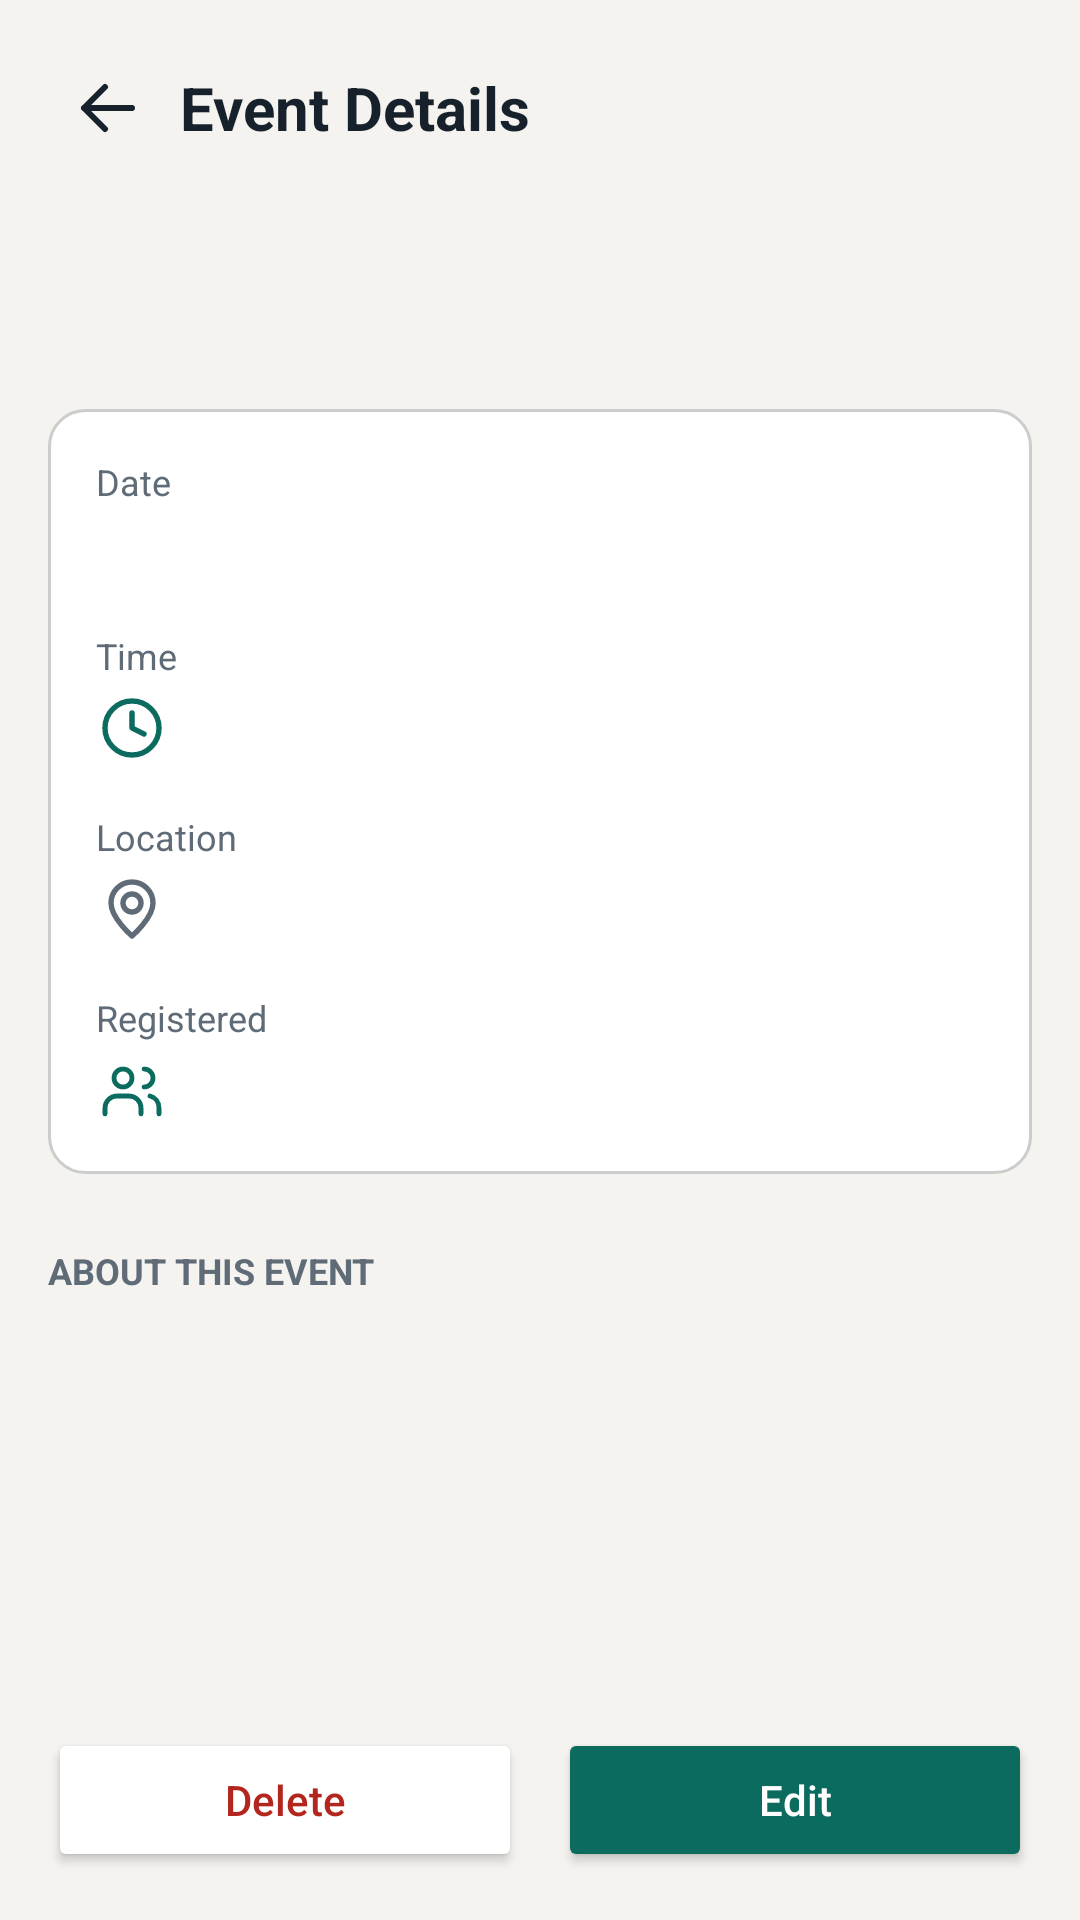

Icon bounding boxes for this 1080×1920 phone screenshot, format detection(x1, y1, x2, y2):
Back: detection(81, 84, 135, 132)
